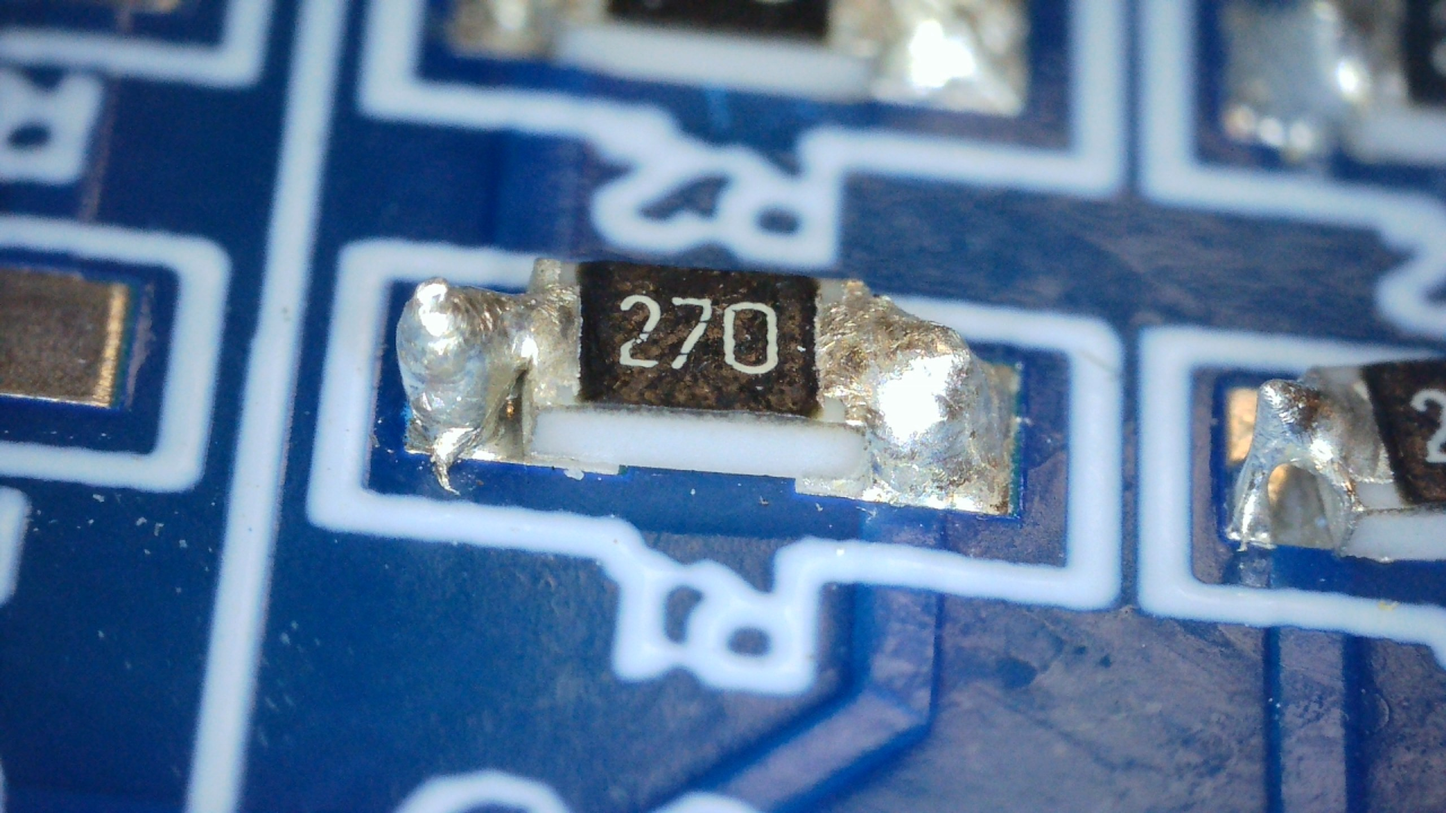NG: (816, 278, 1014, 499), (395, 278, 540, 495), (872, 321, 990, 465)
